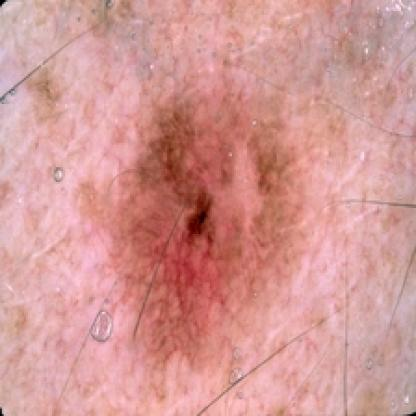Skin_Cancer-Malignant: (114, 98, 303, 370)
